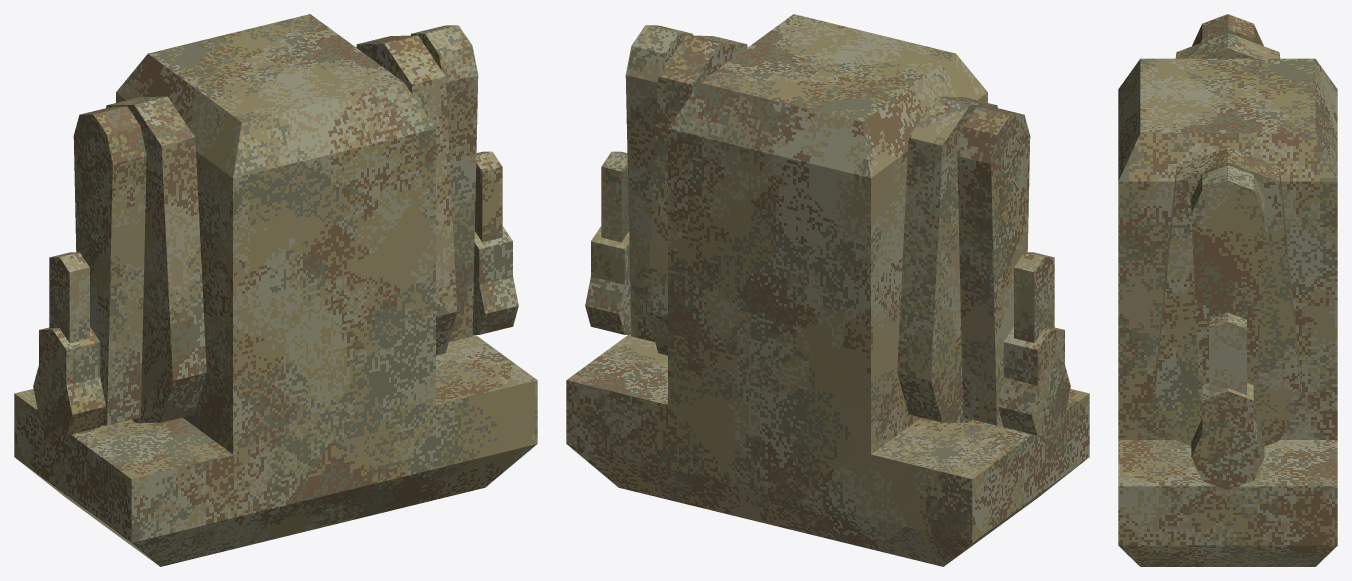
File: pack3.glb
3 views of the same model, side by side, from view 1: azimuth 30°, elevation 25°; view 2: azimuth 150°, elevation 25°; view 3: azimuth 270°, elevation 25° (orthographic). The views are drawn at different scales.
Visible parts, largest first — view 1: pack3; view 2: pack3; view 3: pack3.
Part boxes in pixels (x1,y1,x2,y2): pack3: [14, 14, 537, 566]; pack3: [566, 14, 1089, 566]; pack3: [1118, 14, 1337, 566].
Size of the model in its own units: 0.66 by 0.6 by 0.3.
1 material, 1 textured.
